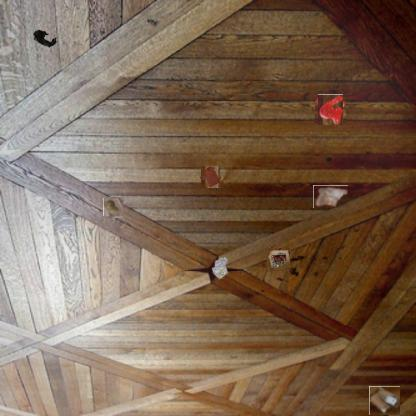dirty: (369, 386, 400, 415), (313, 185, 348, 208), (31, 28, 59, 50), (266, 248, 289, 270), (210, 256, 230, 280), (104, 198, 124, 217)
liquid: (316, 96, 345, 124), (200, 167, 221, 187)
